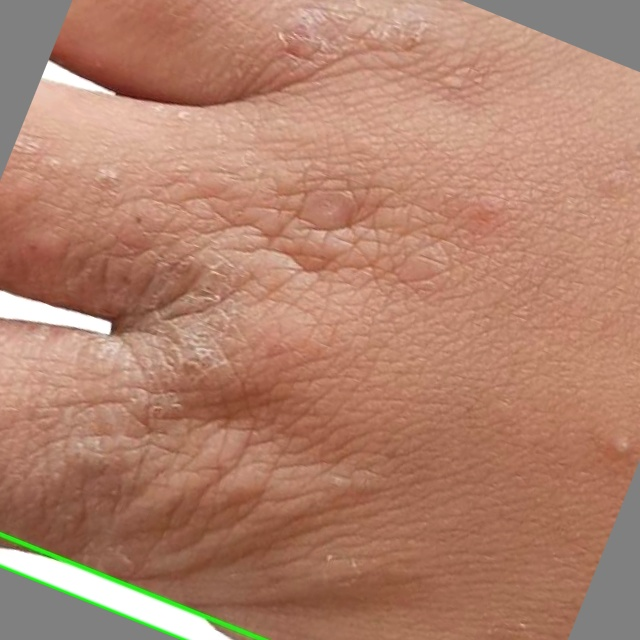Scabies: (0, 534, 262, 639)
